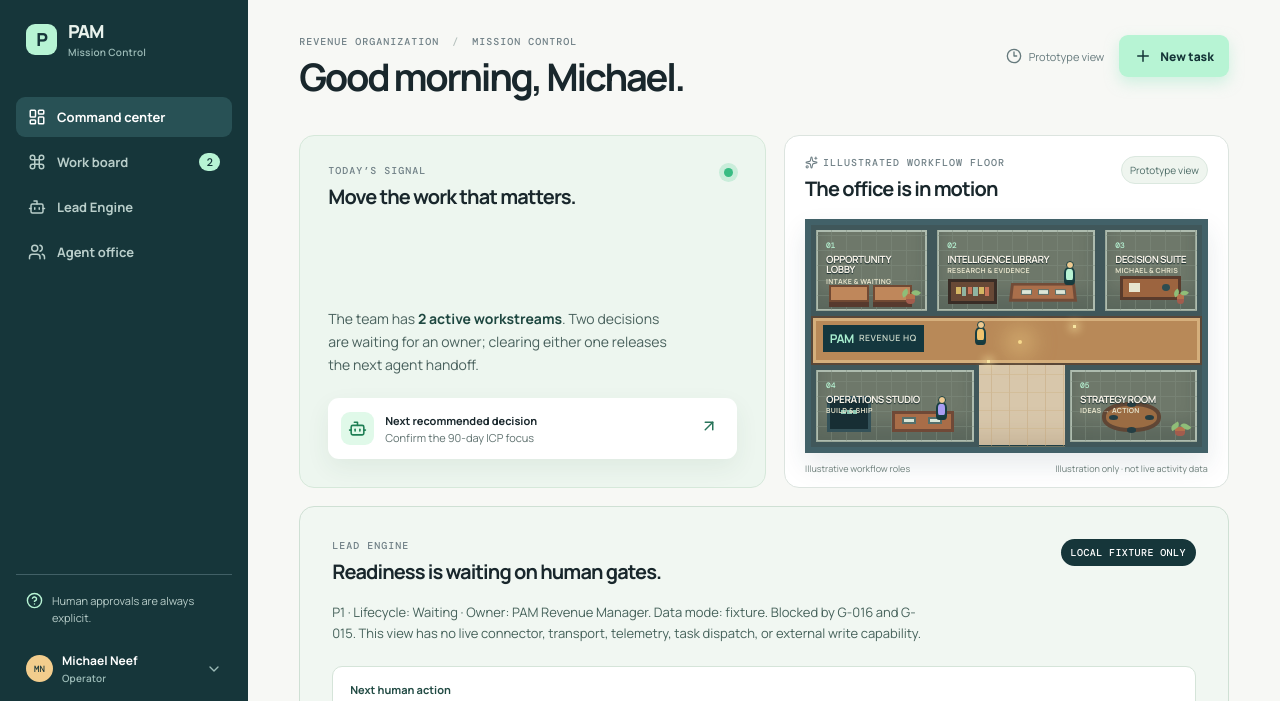
Scenario: Mission Control › creates a task in the actively working lane
The width and height of the screenshot is (1280, 701).
Click the button "New task" at x=1174, y=56, box [1119, 35, 1229, 77]
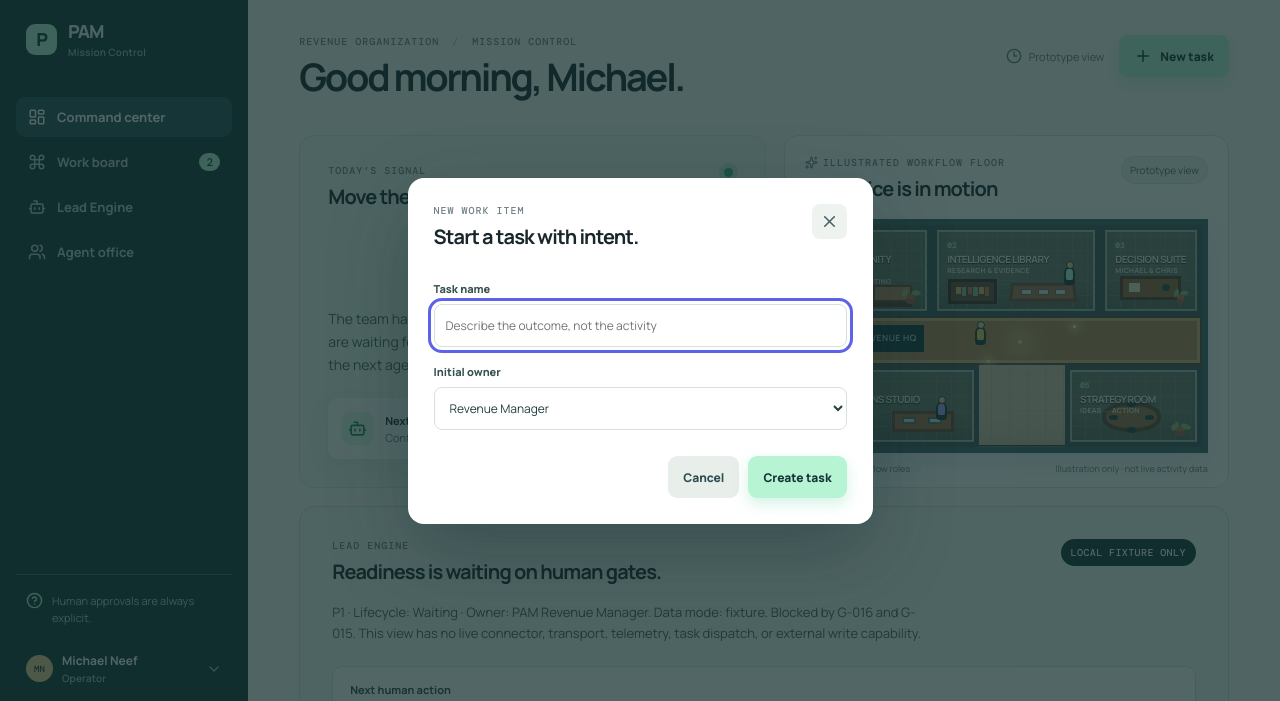
Type "Review launch brief" into the field labelled "Task name" at x=640, y=326, box [434, 304, 846, 347]
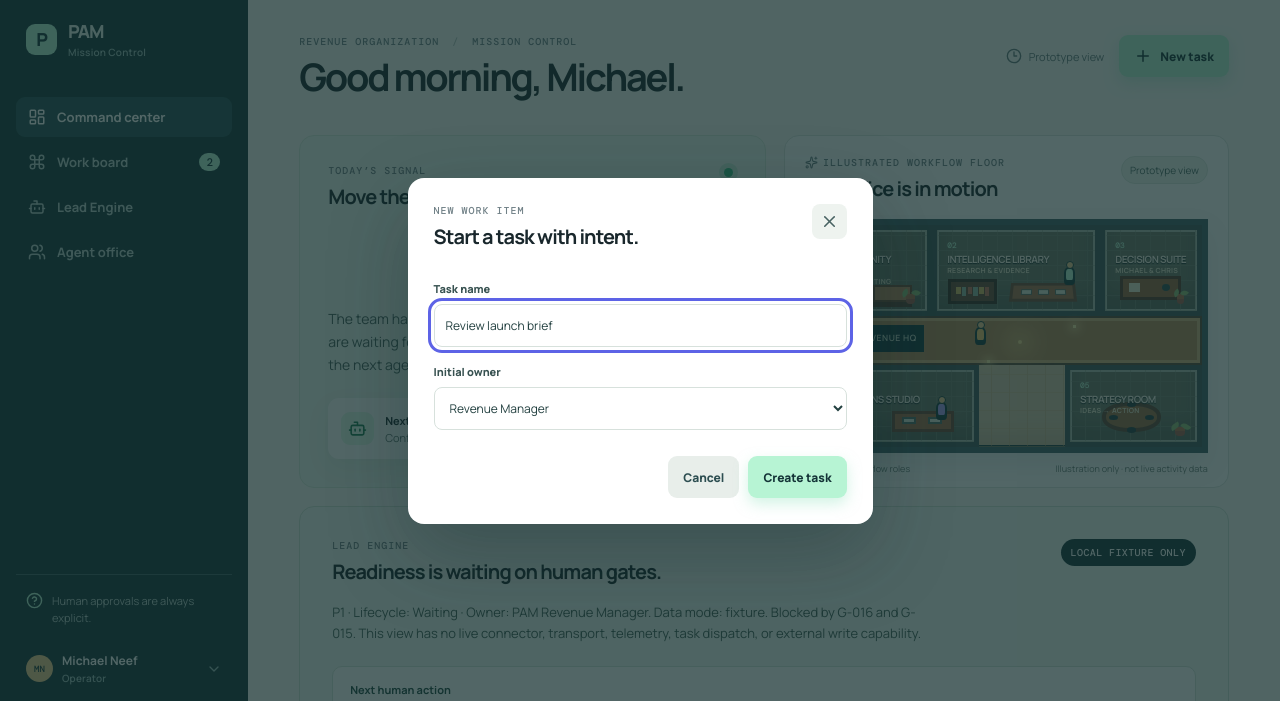
Click the button "Create task" at x=797, y=477, box [748, 456, 846, 498]
(page scrolled)
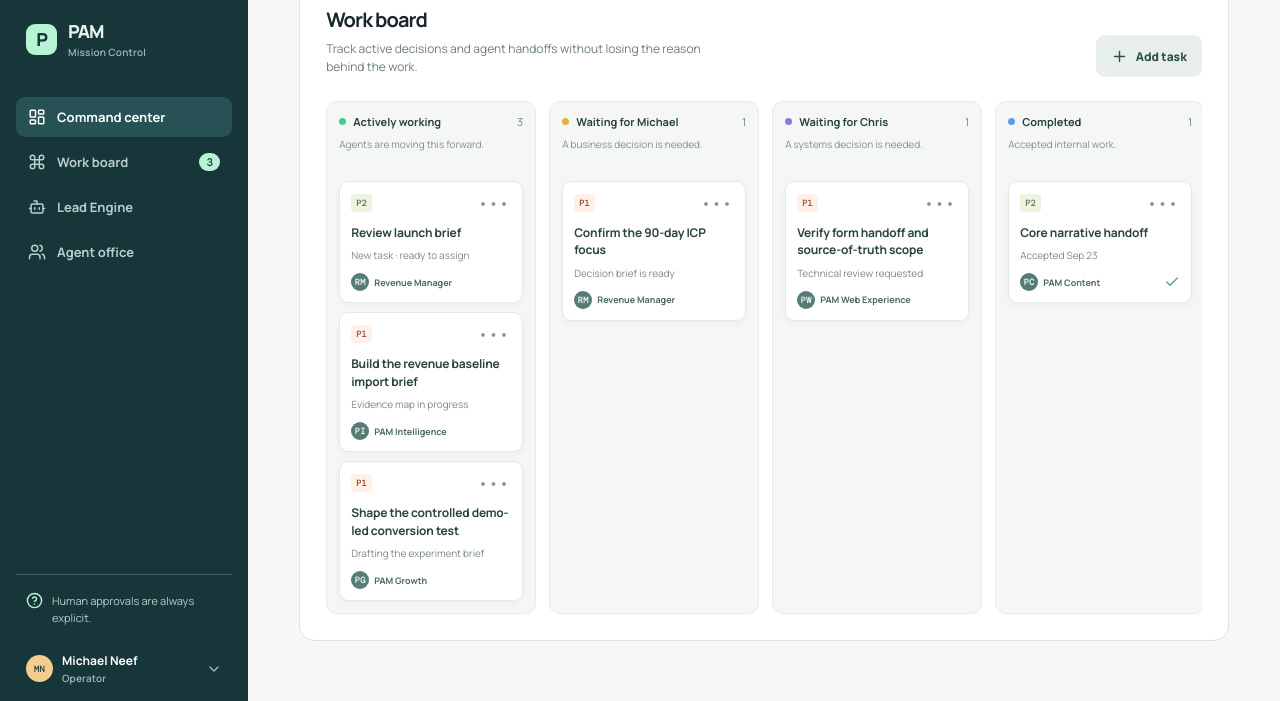
Expected: the element "Actively working" shows "Review launch brief", [351, 224, 461, 241]
